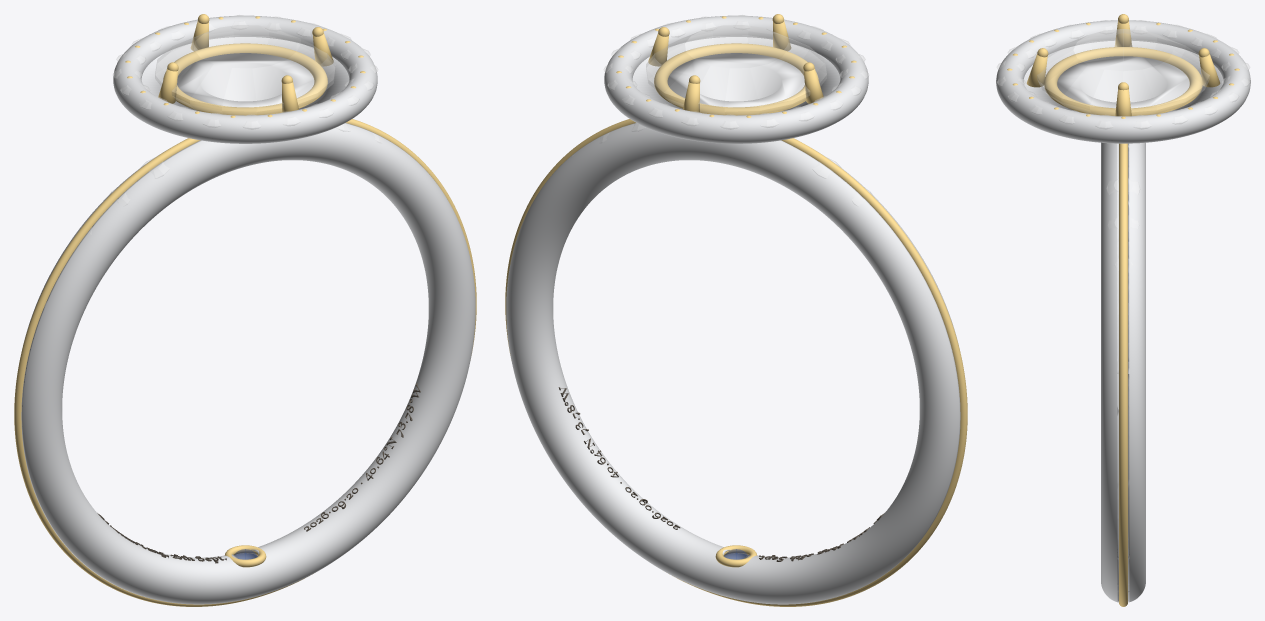
The model's file is meridian_hers.glb.
3 views of the same model, side by side, from view 1: azimuth 30°, elevation 25°; view 2: azimuth 150°, elevation 25°; view 3: azimuth 270°, elevation 25° (orthographic). The views are drawn at different scales.
Visible parts, largest first — view 1: Band, HaloCollar, Diamond, MeridianInlay, Collet, Seat, HaloCup, EngravingR; view 2: Band, HaloCollar, Diamond, MeridianInlay, Collet, Seat, HaloCup, EngravingR; view 3: Band, HaloCollar, Diamond, Collet, MeridianInlay, Seat, HaloCup, Prong1, Prong3, Prong0, Prong2.
Boxes of the visible parts, <box> form: Band: <box>21,123,475,604</box>; HaloCollar: <box>113,15,377,143</box>; Diamond: <box>155,25,335,115</box>; MeridianInlay: <box>14,119,476,606</box>; Collet: <box>177,53,314,107</box>; Seat: <box>163,43,327,115</box>; HaloCup: <box>141,37,349,111</box>; EngravingR: <box>304,383,420,531</box>; Band: <box>506,123,960,604</box>; HaloCollar: <box>604,15,868,143</box>; Diamond: <box>646,25,826,115</box>; MeridianInlay: <box>505,119,967,606</box>; Collet: <box>667,53,804,107</box>; Seat: <box>654,43,818,115</box>; HaloCup: <box>632,37,840,111</box>; EngravingR: <box>558,387,680,529</box>; Band: <box>1101,142,1145,602</box>; HaloCollar: <box>996,20,1250,143</box>; Diamond: <box>1037,29,1209,115</box>; Collet: <box>1057,56,1189,108</box>; MeridianInlay: <box>1119,143,1127,606</box>; Seat: <box>1044,47,1202,115</box>; HaloCup: <box>1023,41,1223,111</box>; Prong1: <box>1199,54,1220,87</box>; Prong3: <box>1026,54,1047,87</box>; Prong0: <box>1115,89,1131,116</box>; Prong2: <box>1114,21,1132,46</box>.
Bounding box in the file's own units: 20.41 × 23.47 × 10.14.
